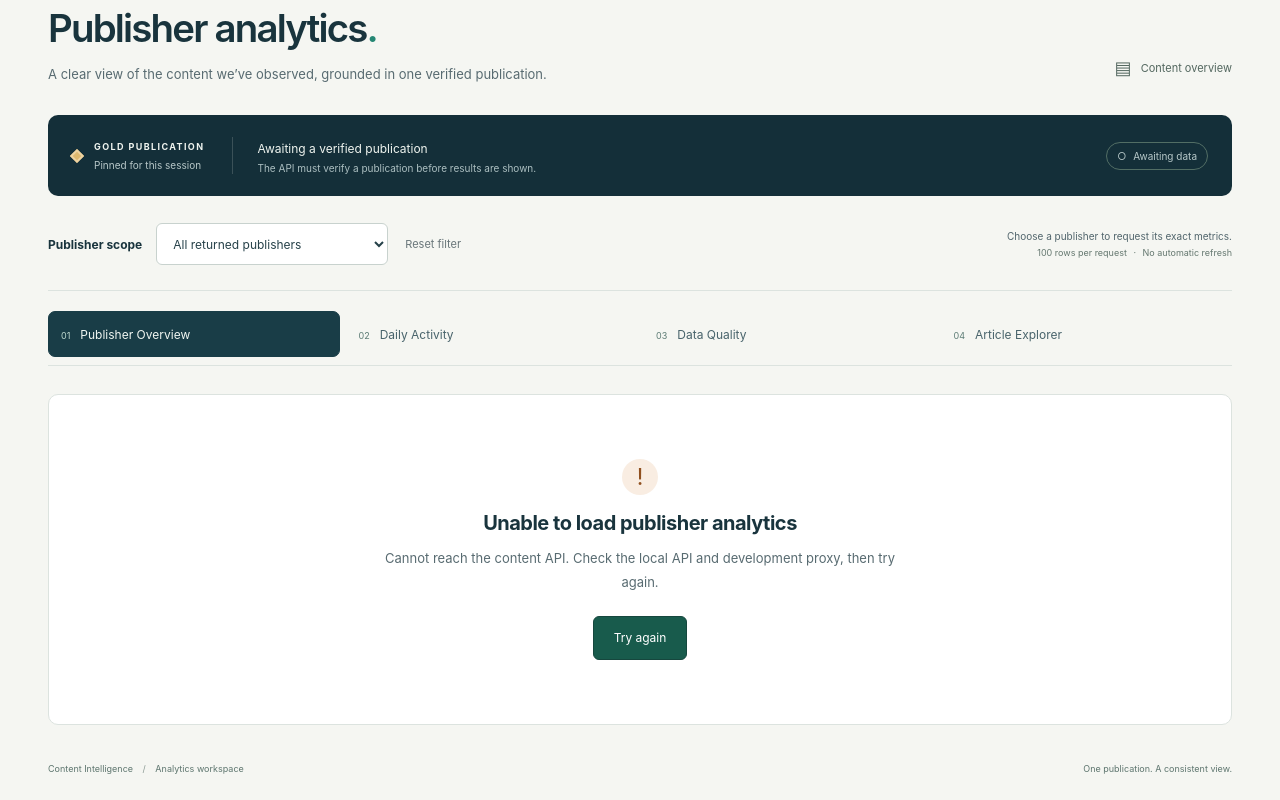
Test case: publisher dashboard › shows network and invalid-response errors without fabricated data
(page scrolled)
Expected: the message shows "Cannot reach the content API", [385,550,895,590]
Click the button "Try again".
click(640, 638)  # box [593,616,687,660]
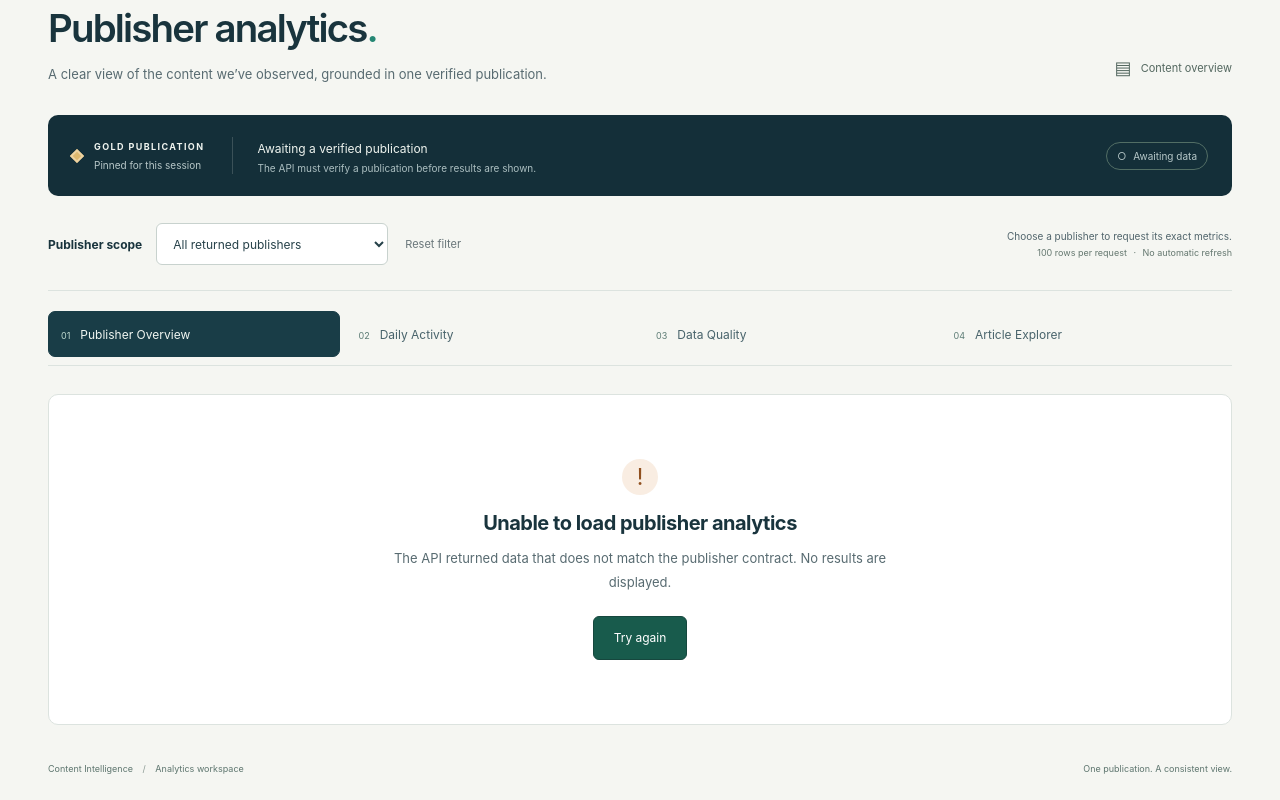
Expected: the message shows "does not match the publisher contract", [394,550,886,590]
